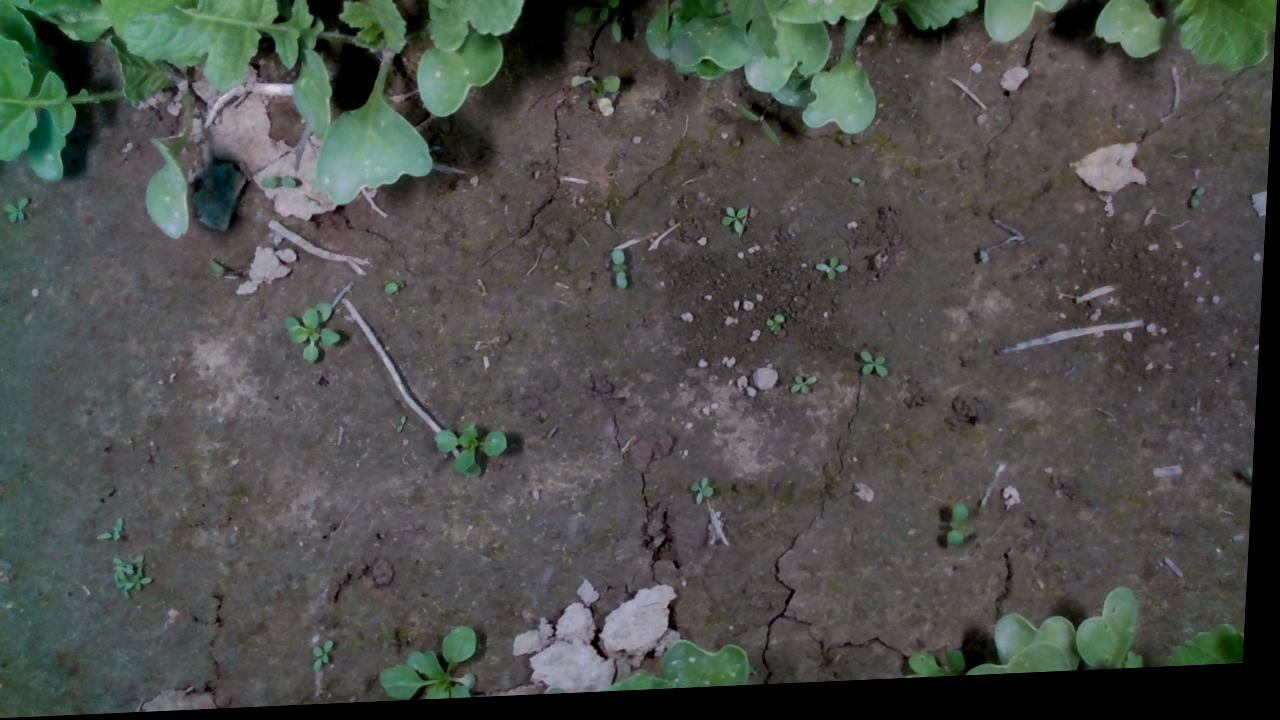weed: (860, 356, 894, 386)
